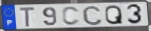3: (125, 3, 145, 25)
9: (41, 7, 58, 27)
C: (81, 5, 104, 27), (61, 6, 82, 26)
Q: (105, 5, 124, 26)
T: (19, 7, 37, 29)
